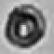correct: (1, 0, 47, 49)
